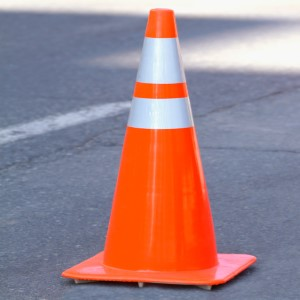traffic cone: (60, 8, 257, 291)
